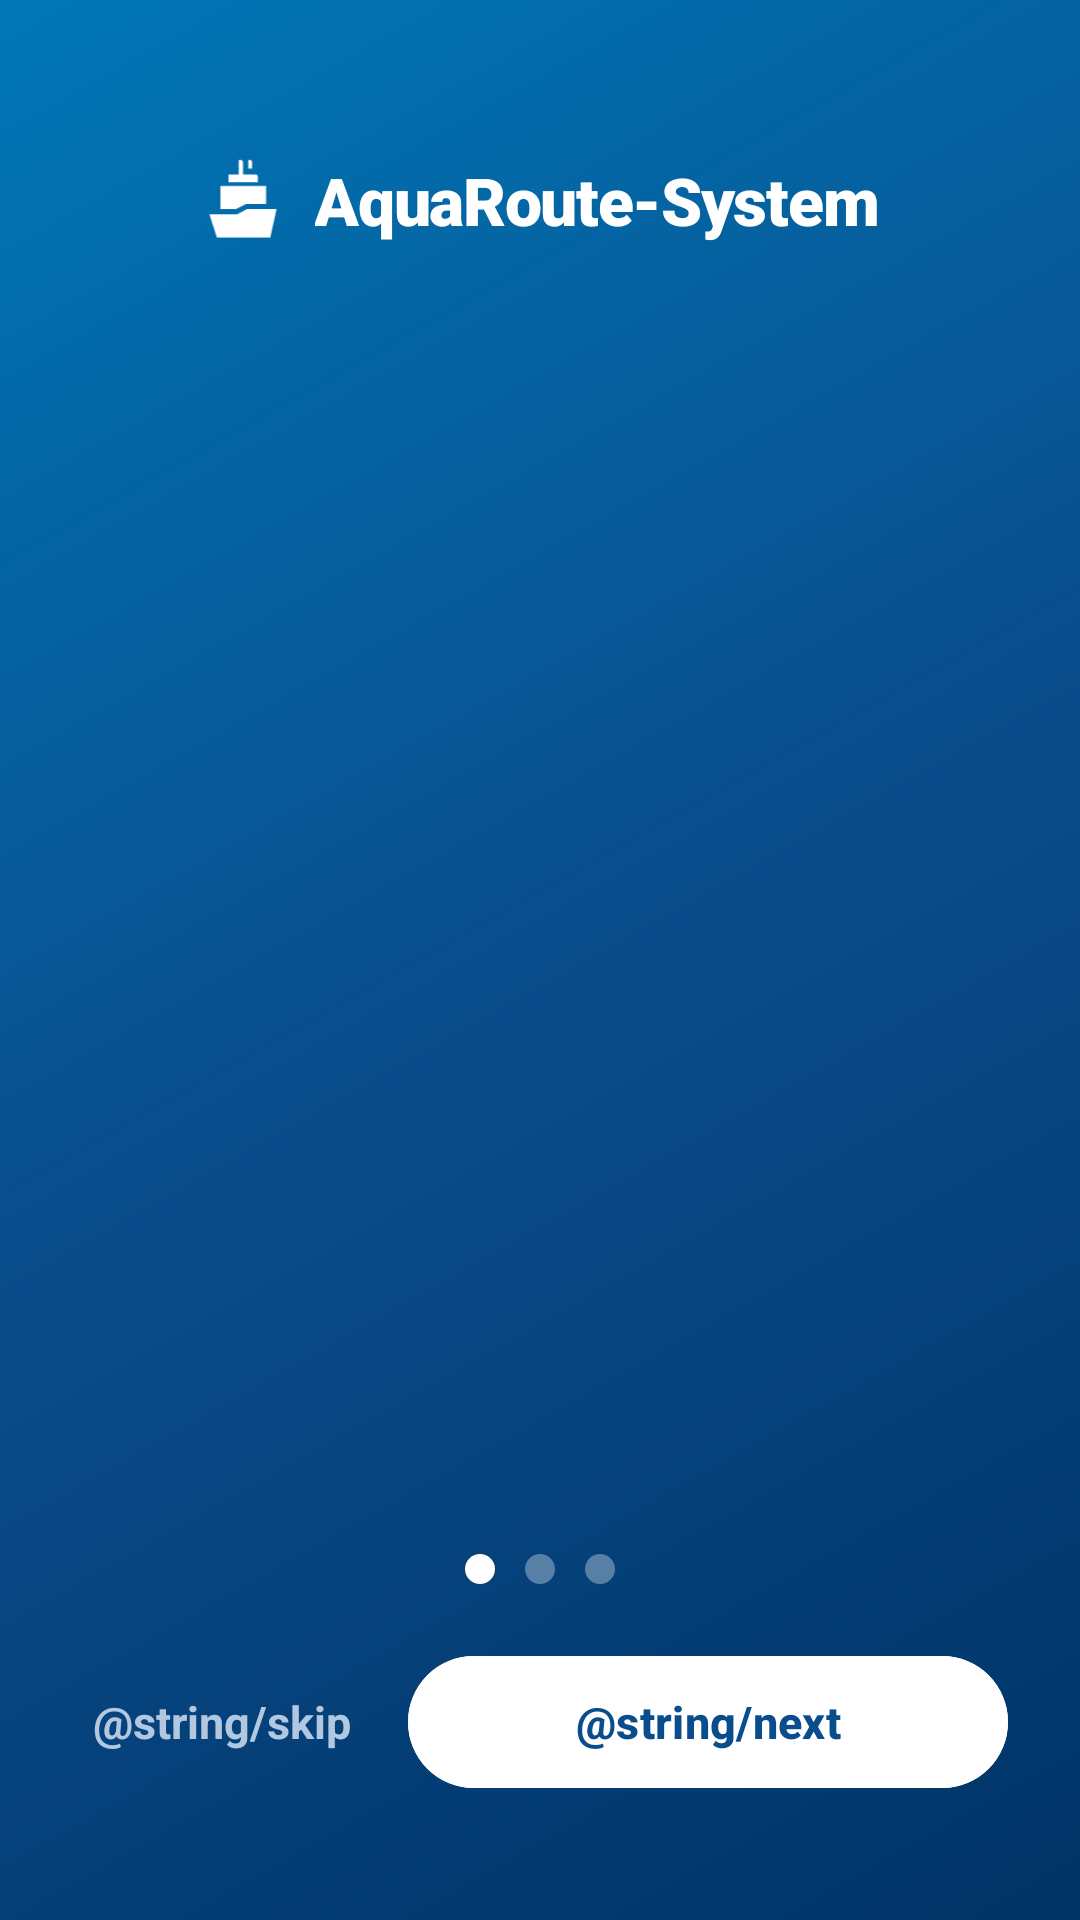

Icons on this 1080 x 1920 Android screen, each with the point to tap as (x=x, y=y):
page indicator dot: (x=480, y=1569), (x=540, y=1569), (x=600, y=1569)
